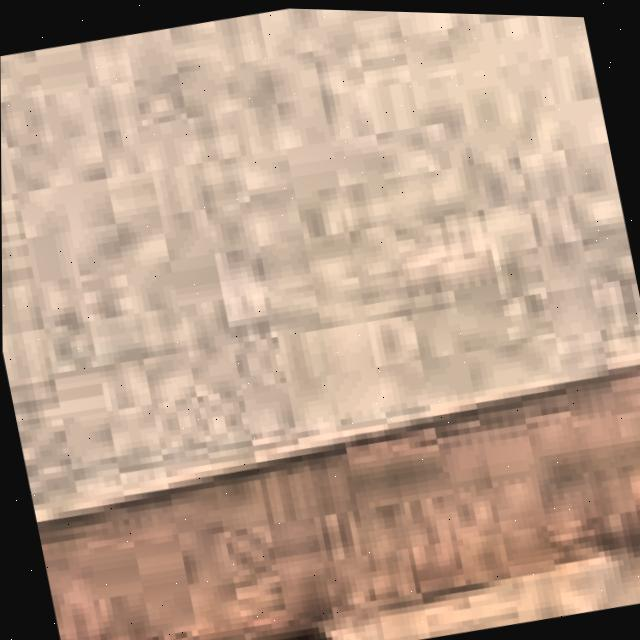paper: (0, 7, 640, 640)
